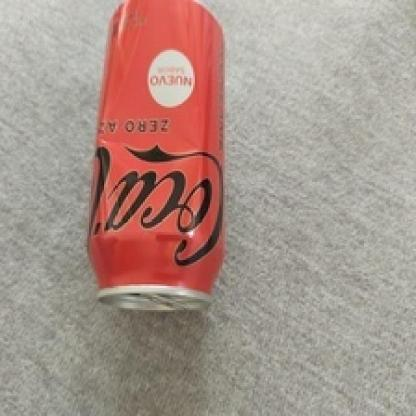Can: (86, 0, 228, 314)
